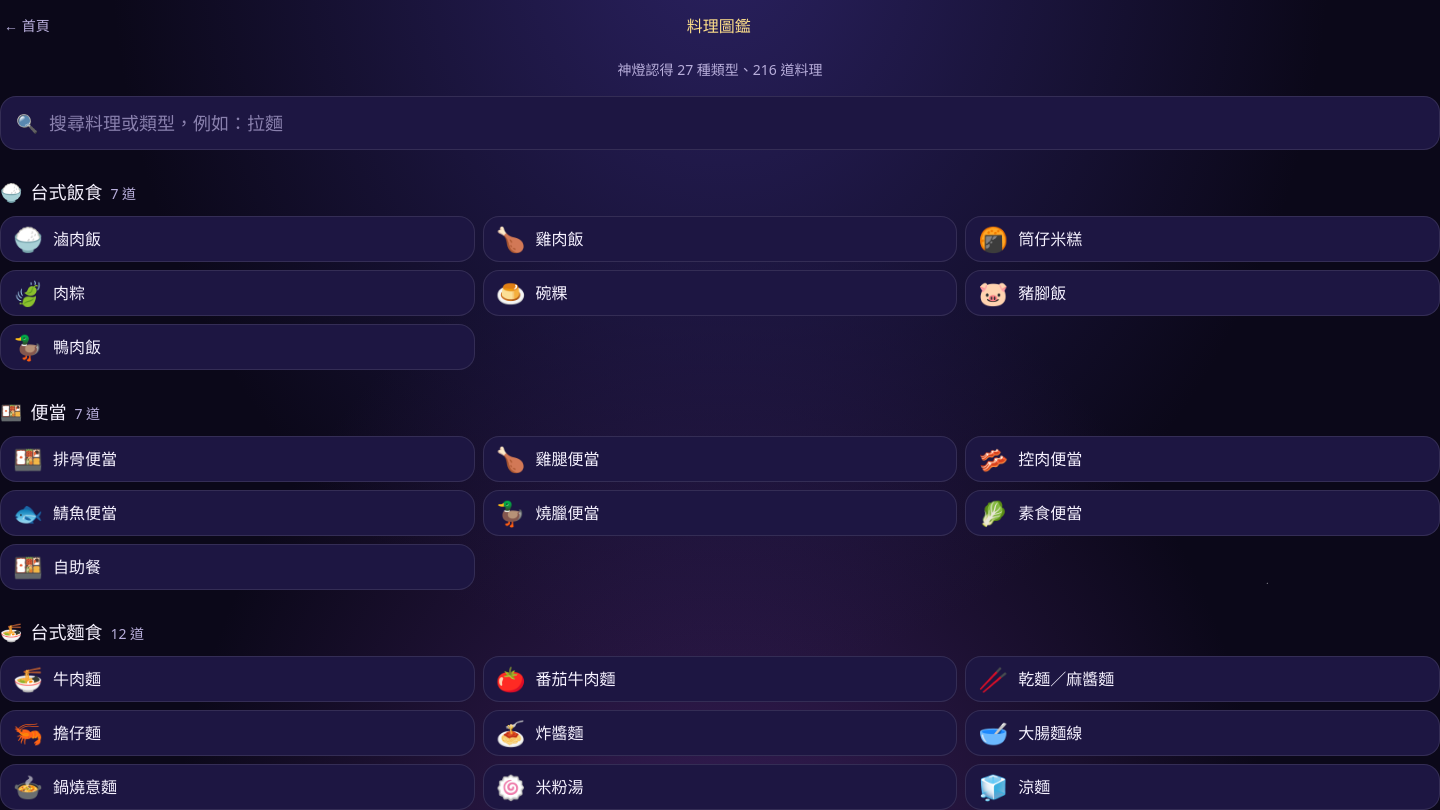
Test: 料理圖鑑頁 › 搜尋料理名稱只留下符合的料理
Type "關東" into the search field labelled "🔍" at (720, 123), box [0,96,1439,150]
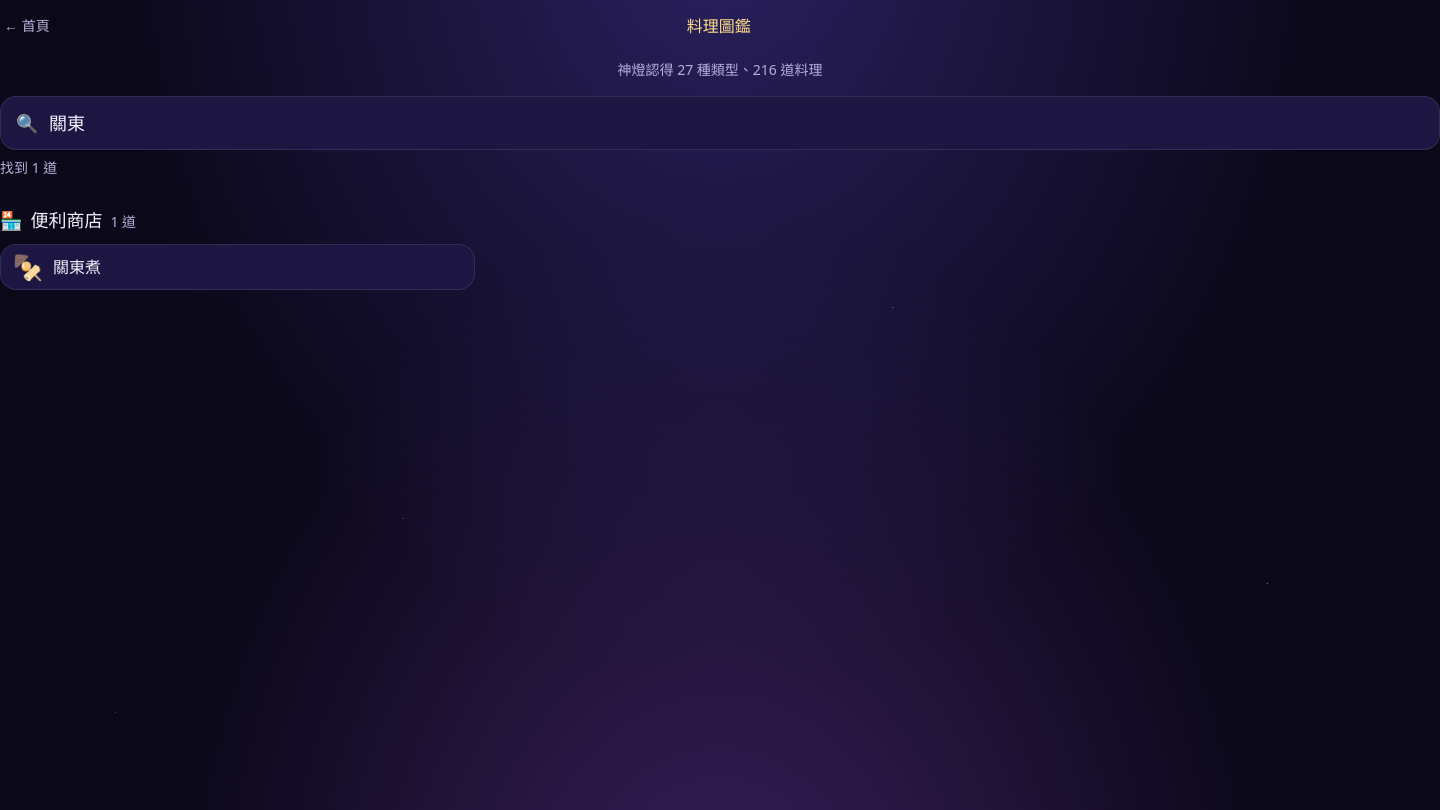
Expected: the text "關東煮" is shown, [53,256,101,278]
Expected: the text "找到 1 道" is shown, [0,158,57,177]
Expected: the text "滷肉飯" is gone
